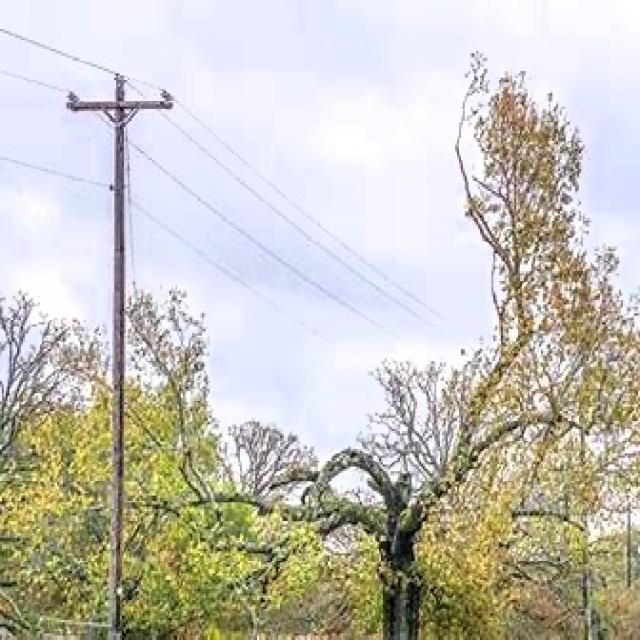utility poles: (56, 43, 198, 639)
